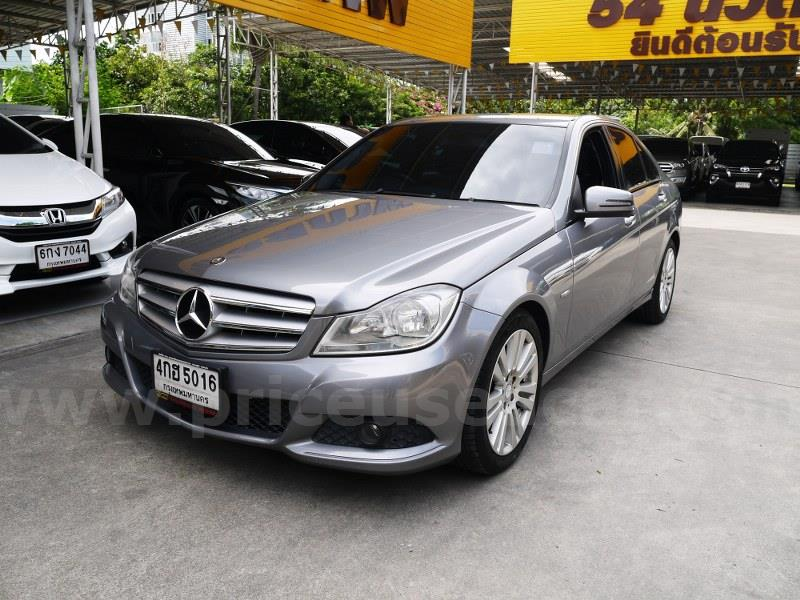sedan: (108, 114, 686, 484)
